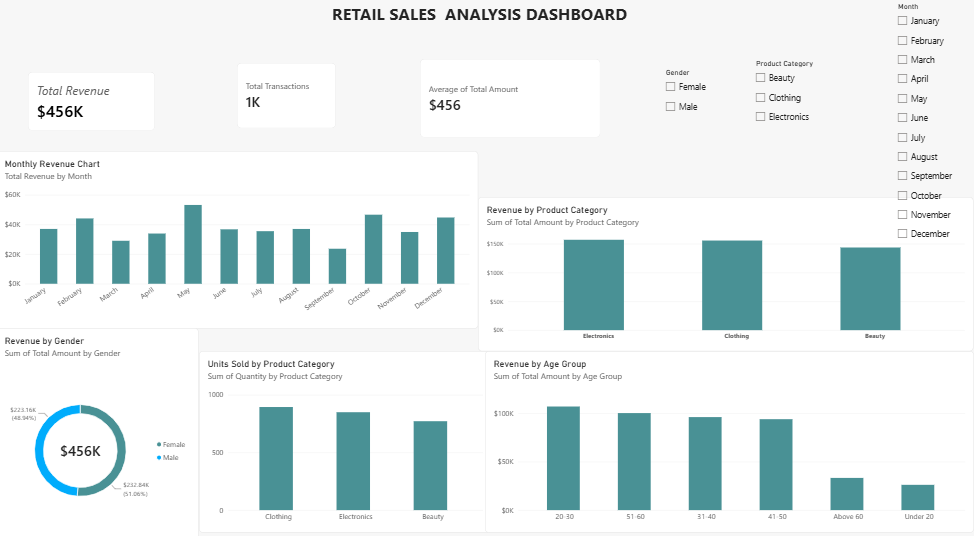

The page's visual inventory and layout, read from the dashboard file:
{"tool":"powerbi","page":{"name":"Page 1","canvas":[1920,1080],"ordinal":0},"visuals":[{"type":"clusteredColumnChart","title":"Units Sold by Product Category","fields":{"Category":["retail_sales_dataset.Product Category"],"Y":["Sum(retail_sales_dataset.Quantity)"]},"box":[398.3,701.8,574.8,357.4],"z":0},{"type":"clusteredColumnChart","title":"Monthly Revenue Chart","fields":{"Category":["retail_sales_dataset.Month"],"Y":["retail_sales_dataset.Total Revenue"]},"box":[0,307.8,946.9,348.7],"z":1000},{"type":"donutChart","title":"Revenue by Gender","fields":{"Category":["retail_sales_dataset.Gender"],"Y":["Sum(retail_sales_dataset.Total Amount)"]},"box":[0,656.5,398.3,423.1],"z":2000},{"type":"clusteredColumnChart","title":"Revenue by Age Group","fields":{"Category":["retail_sales_dataset.Age Group"],"Y":["Sum(retail_sales_dataset.Total Amount)"]},"box":[960,701.8,960,357.4],"z":3000},{"type":"clusteredColumnChart","title":"Revenue by Product Category","fields":{"Category":["retail_sales_dataset.Product Category"],"Y":["Sum(retail_sales_dataset.Total Amount)"]},"box":[946.9,398.3,973.1,303.5],"z":4000},{"type":"cardVisual","fields":{"Data":["retail_sales_dataset.Total Revenue"]},"box":[62.7,153.2,249.5,115.3],"z":5000},{"type":"cardVisual","fields":{"Data":["retail_sales_dataset.Total Transactions"]},"box":[474.2,135.7,194,128.4],"z":6000},{"type":"cardVisual","fields":{"Data":["Avg(retail_sales_dataset.Total Amount)"]},"box":[833.1,128.4,354.5,154.7],"z":7000},{"type":"textbox","box":[714.9,16,430.4,55.4],"z":9000},{"type":"slicer","fields":{"Values":["retail_sales_dataset.Month"]},"box":[1763.9,16,156.1,496],"z":9001},{"type":"slicer","fields":{"Values":["retail_sales_dataset.Product Category"]},"box":[1483.8,128.4,176.5,166.3],"z":9002},{"type":"slicer","fields":{"Values":["retail_sales_dataset.Gender"]},"box":[1308.7,144.4,163.4,121.1],"z":9003}]}

Visuals, with their boxes in screenshot pixels (x1, y1, x2, y2), scaled from the page's 1920x1080 canvas onto the 974x536 screenshot:
"Units Sold by Product Category" clusteredColumnChart: [left=202, top=348, right=494, bottom=526]
"Monthly Revenue Chart" clusteredColumnChart: [left=0, top=153, right=480, bottom=326]
"Revenue by Gender" donutChart: [left=0, top=326, right=202, bottom=535]
"Revenue by Age Group" clusteredColumnChart: [left=487, top=348, right=973, bottom=526]
"Revenue by Product Category" clusteredColumnChart: [left=480, top=198, right=973, bottom=348]
cardVisual - retail_sales_dataset.Total Revenue: [left=32, top=76, right=158, bottom=133]
cardVisual - retail_sales_dataset.Total Transactions: [left=241, top=67, right=339, bottom=131]
cardVisual - Avg(retail_sales_dataset.Total Amount): [left=423, top=64, right=602, bottom=141]
textbox: [left=363, top=8, right=581, bottom=35]
slicer - retail_sales_dataset.Month: [left=895, top=8, right=973, bottom=254]
slicer - retail_sales_dataset.Product Category: [left=753, top=64, right=842, bottom=146]
slicer - retail_sales_dataset.Gender: [left=664, top=72, right=747, bottom=132]
